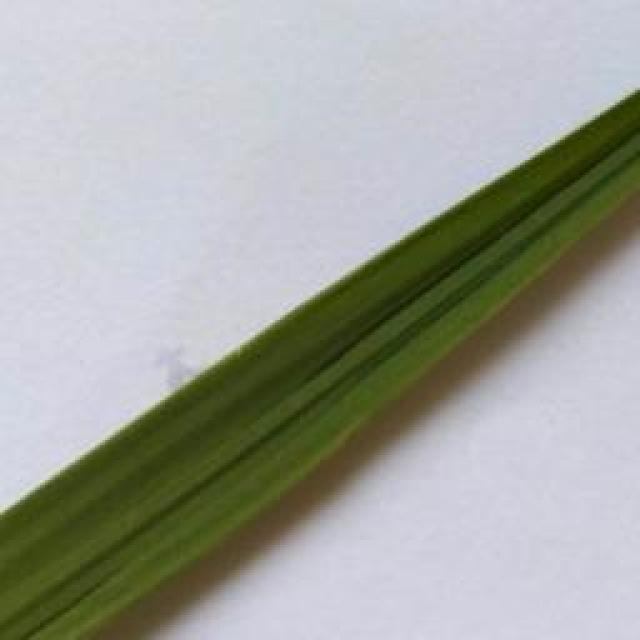Healthy-Plant: (3, 86, 640, 637)
